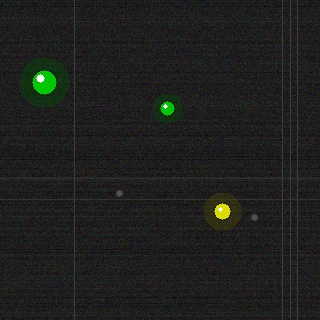green_normal: (30, 68, 58, 96), (158, 99, 176, 117)
yellow_warning: (212, 201, 232, 221)
